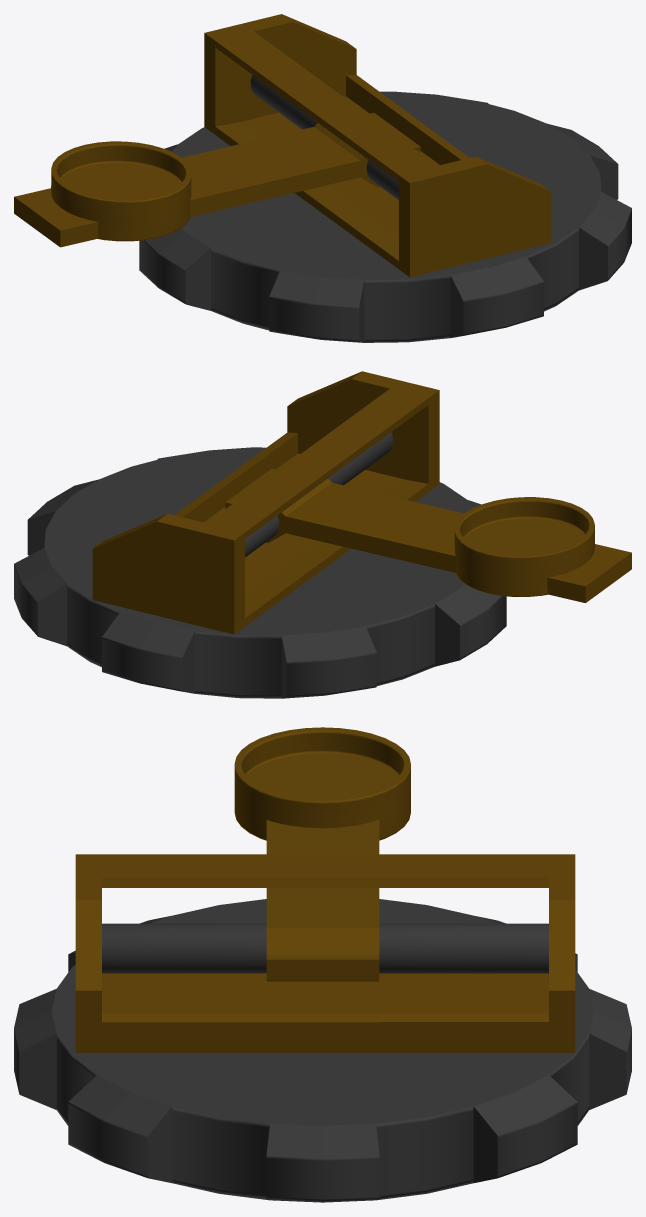
File: Catapult.fbx
3 renders of one model, top to bottom at view 1: azimuth 30°, elevation 25°; view 2: azimuth 150°, elevation 25°; view 3: azimuth 270°, elevation 25°, orthographic. The views are drawn at different scales.
Parts seen in each view (by area): view 1: Cylinder, Cube.001, Cylinder.001, Cylinder.002; view 2: Cylinder, Cube.001, Cylinder.001, Cylinder.002; view 3: Cylinder, Cube.001, Cylinder.001, Cylinder.002.
Part boxes in pixels (x1=…): Cylinder: x1=139, y1=91, x2=631, y2=342; Cube.001: x1=204, y1=14, x2=551, y2=277; Cylinder.001: x1=14, y1=113, x2=420, y2=247; Cylinder.002: x1=250, y1=75, x2=398, y2=199; Cylinder: x1=14, y1=447, x2=506, y2=698; Cube.001: x1=92, y1=371, x2=439, y2=634; Cylinder.001: x1=225, y1=468, x2=631, y2=602; Cylinder.002: x1=245, y1=432, x2=393, y2=557; Cylinder: x1=14, y1=899, x2=631, y2=1202; Cube.001: x1=75, y1=854, x2=575, y2=1052; Cylinder.001: x1=234, y1=727, x2=410, y2=981; Cylinder.002: x1=102, y1=923, x2=548, y2=973.
Bounding box in the file's own units: 291 × 77.8 × 228.
